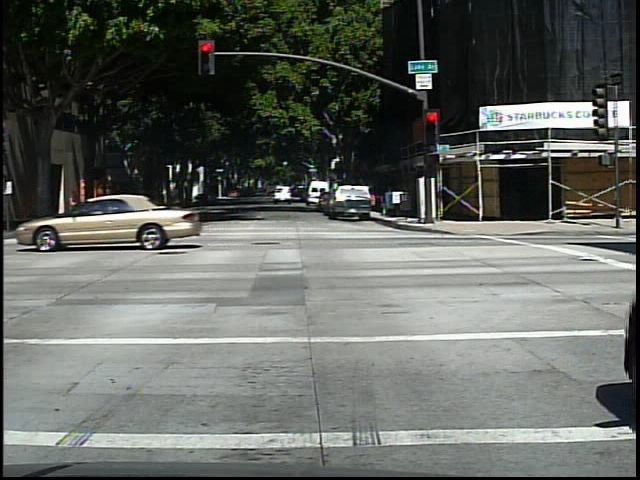person: (63, 185, 92, 238)
